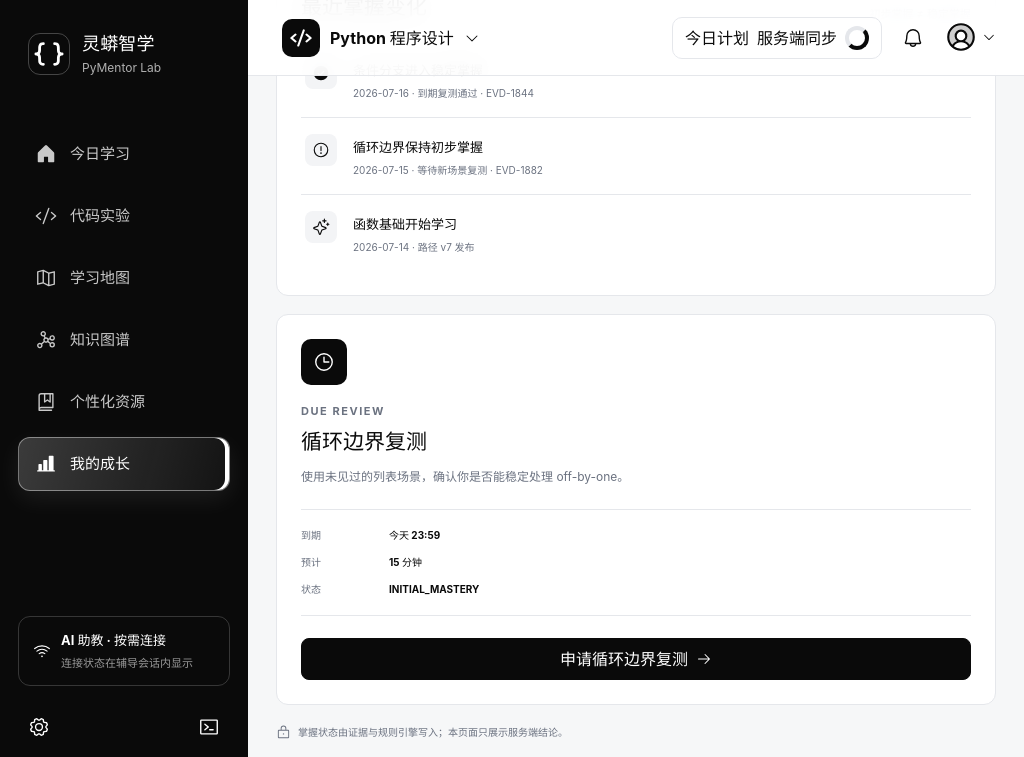
Map and Growth › submits a delayed-review request without claiming mastery
(page scrolled)
Check: the text "初步掌握 ≠ 稳定掌握" is shown, box left=870, top=6, right=971, bottom=22
Click the button "申请循环边界复测" at (636, 659), box left=301, top=638, right=971, bottom=680
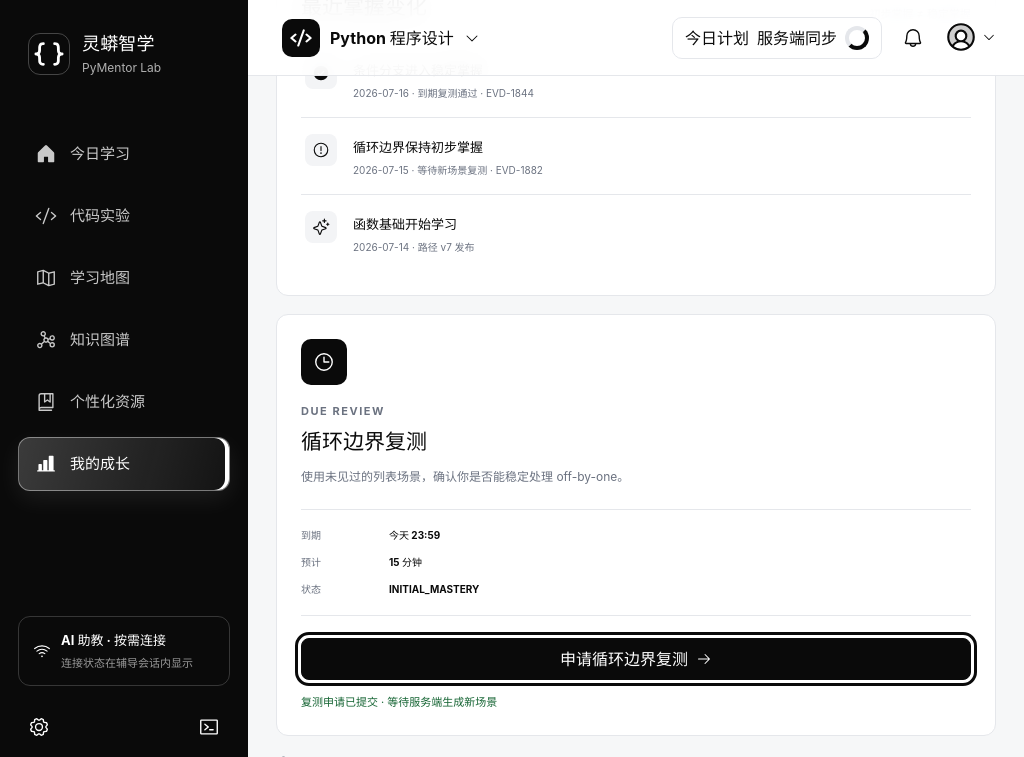
Check: the message named "复测申请状态" shows "复测申请已提交", box left=301, top=695, right=497, bottom=709
